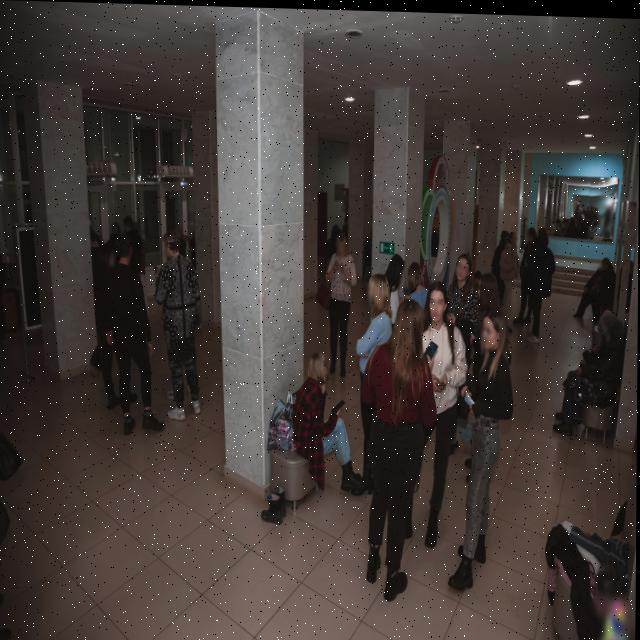Person: (352, 303, 438, 610), (446, 309, 523, 597), (287, 347, 369, 502), (350, 271, 397, 496), (116, 219, 154, 457), (164, 227, 199, 431), (317, 223, 360, 374), (90, 244, 124, 420), (527, 222, 559, 343), (576, 247, 622, 316), (122, 202, 149, 315), (489, 222, 514, 332), (499, 224, 520, 335), (447, 250, 478, 325), (403, 253, 434, 324), (381, 246, 411, 314), (522, 222, 537, 324), (108, 216, 122, 250)
